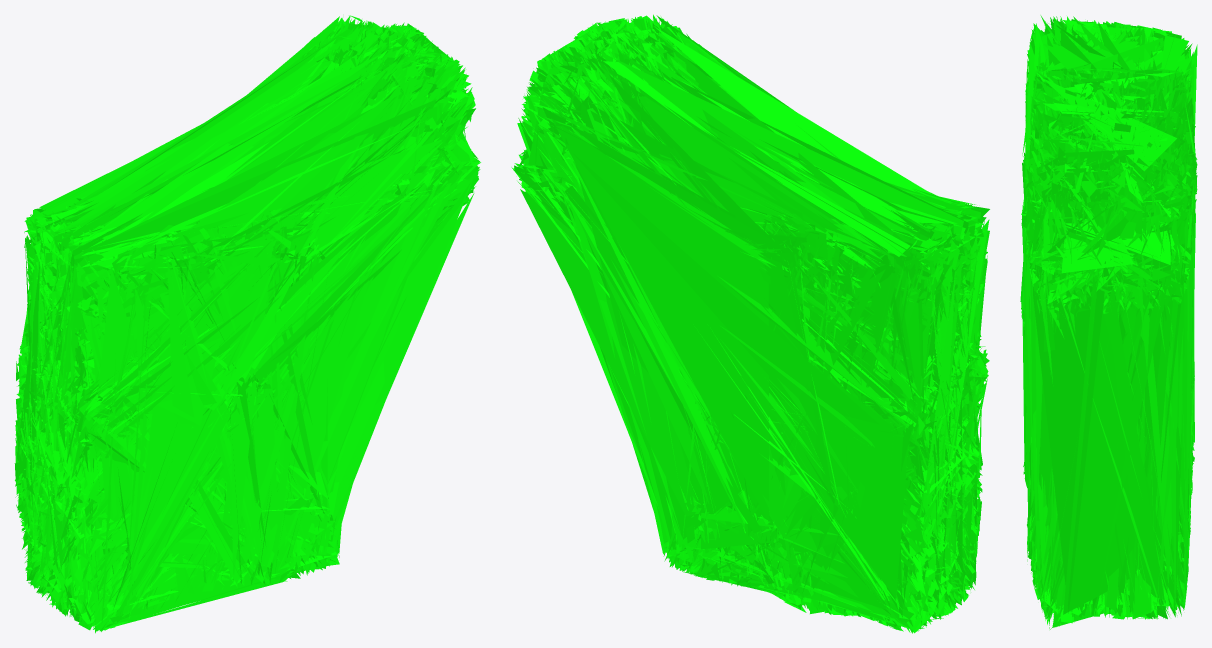
The model's file is e2Particles.gltf.
3 views of the same model, side by side, from view 1: azimuth 30°, elevation 25°; view 2: azimuth 150°, elevation 25°; view 3: azimuth 270°, elevation 25° (orthographic). The views are drawn at different scales.
Bounding box in the file's own units: 0.7882 × 0.9131 × 0.2408.
